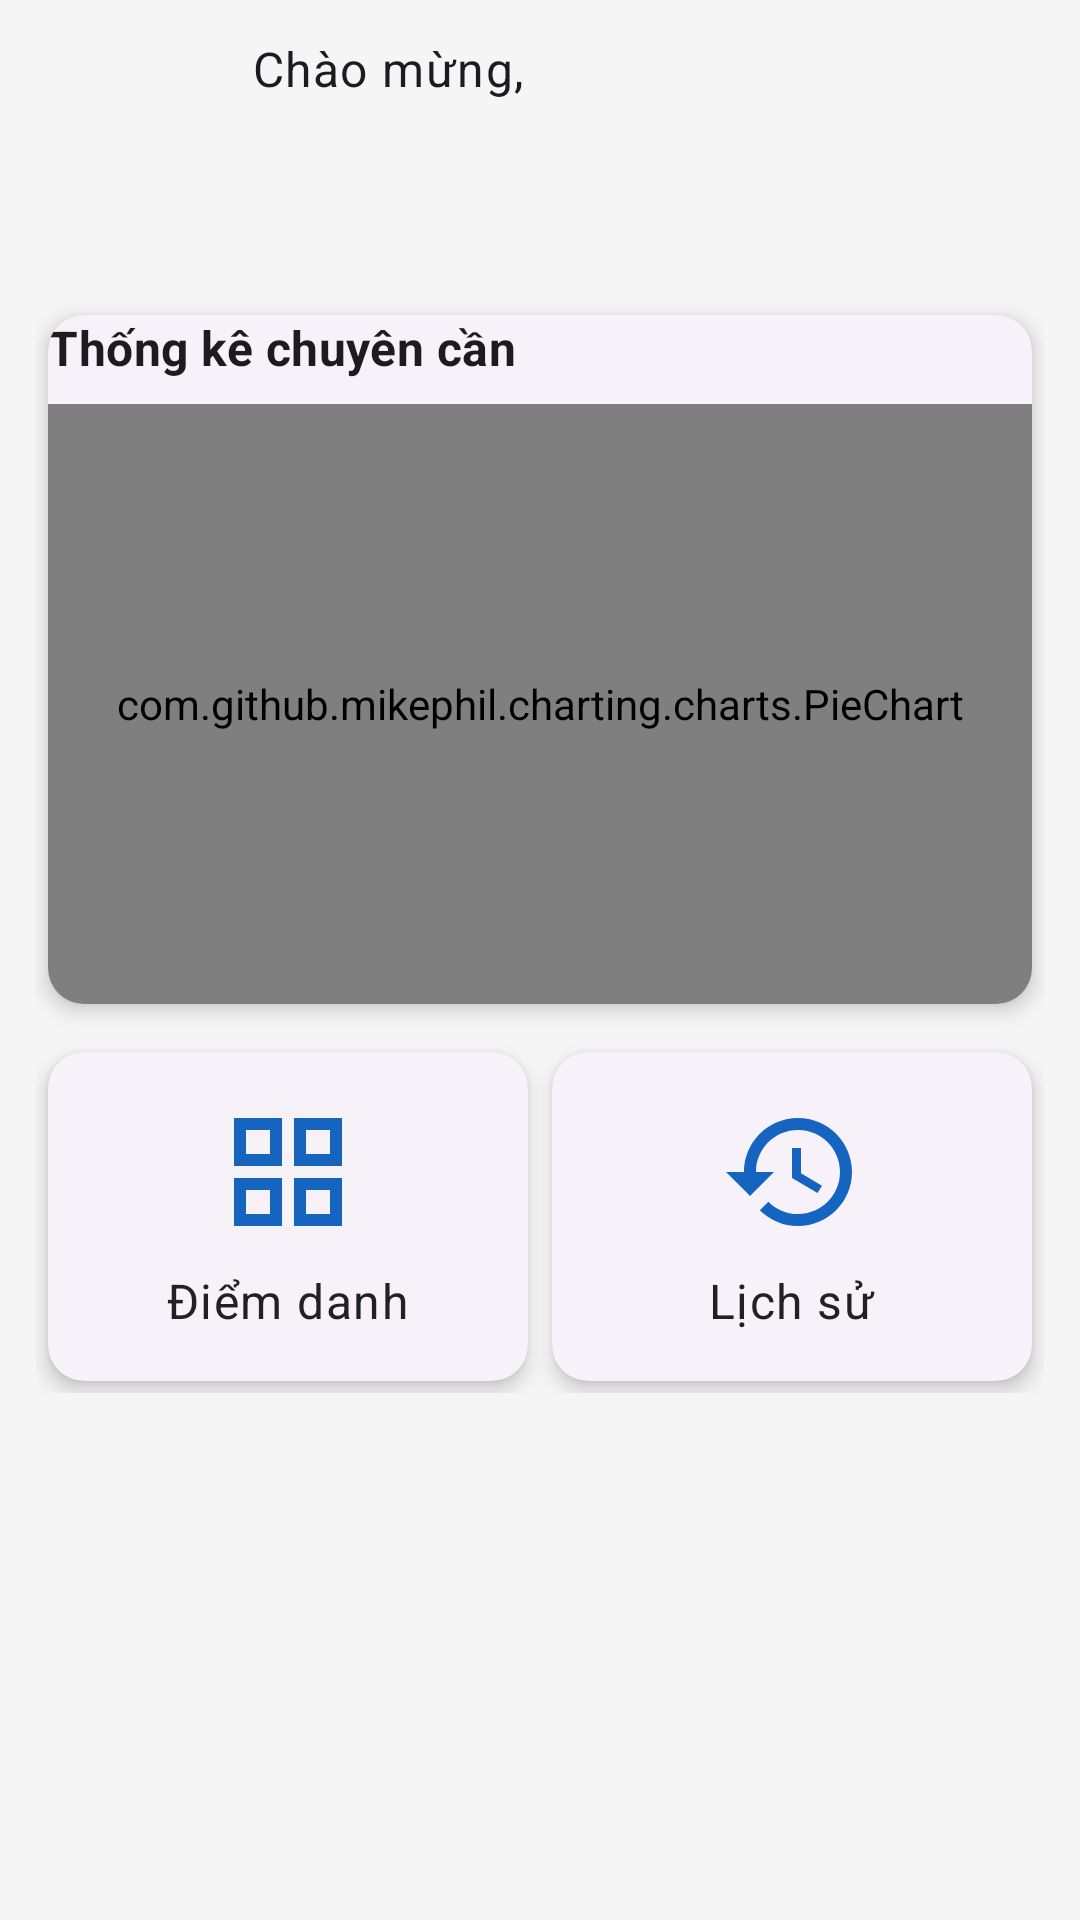

Icons on this 1080*1920 Android screen, each with the point to tap as (x=x, y=y):
history: (x=789, y=1172)
qr code scanner: (x=288, y=1172)
